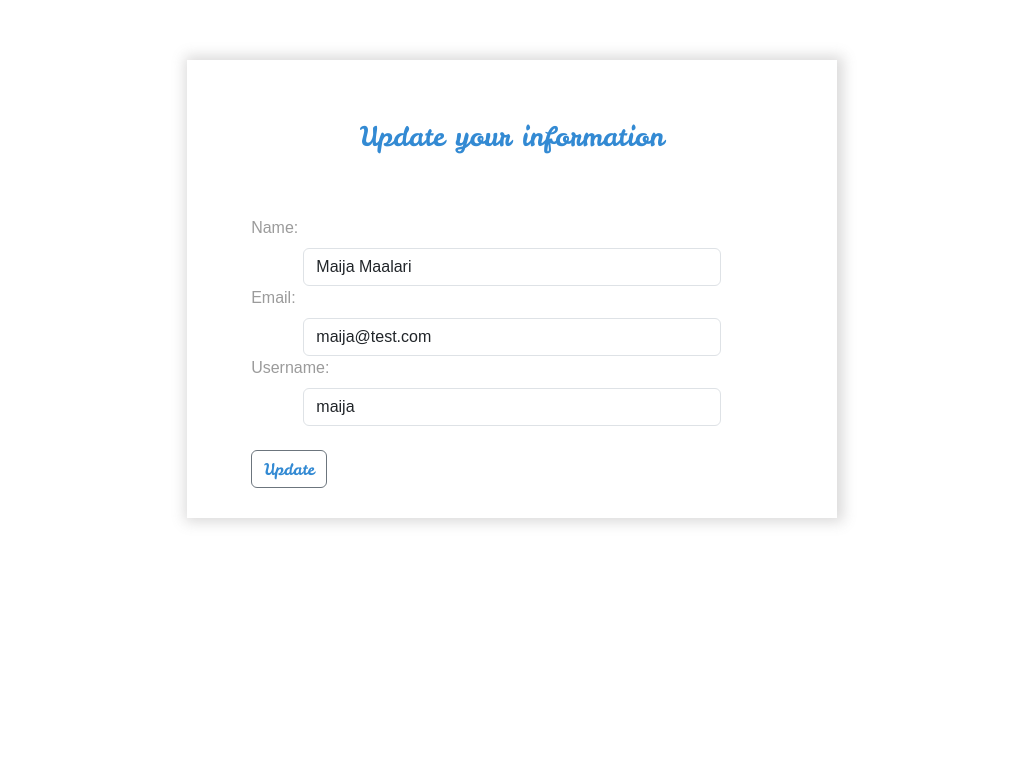
it: UpdateUserForm — validation › shows error for invalid email
The width and height of the screenshot is (1024, 768).
Replace the text in the 2nd field showing "maija@test.com" with "ei-validi" at coordinates (512, 337), box left=303, top=318, right=721, bottom=356
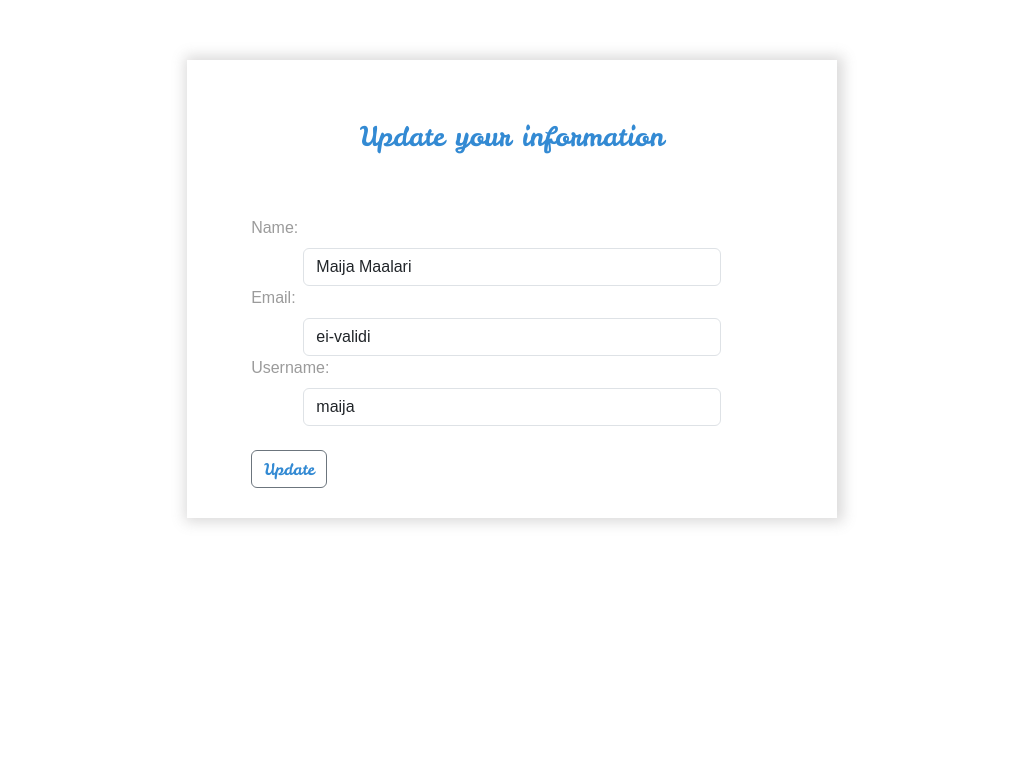
Submit the form "Name: Email: Username: Update", box left=251, top=216, right=773, bottom=488
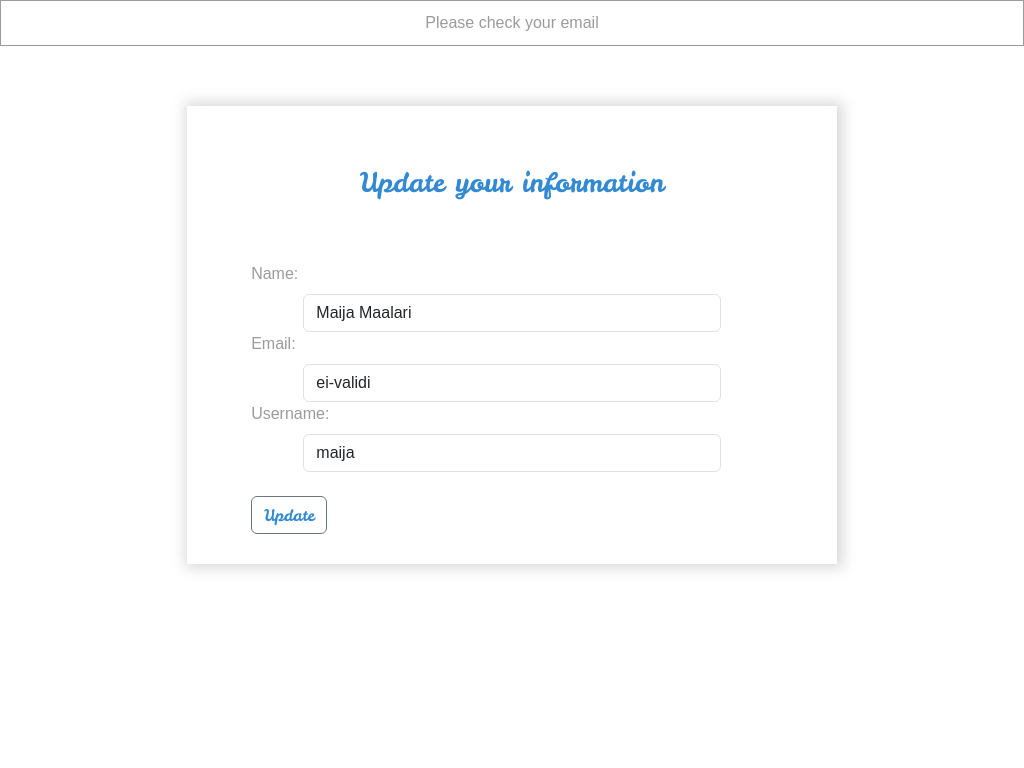
Check: the text "Please check your email" is shown, box left=0, top=0, right=1023, bottom=46
